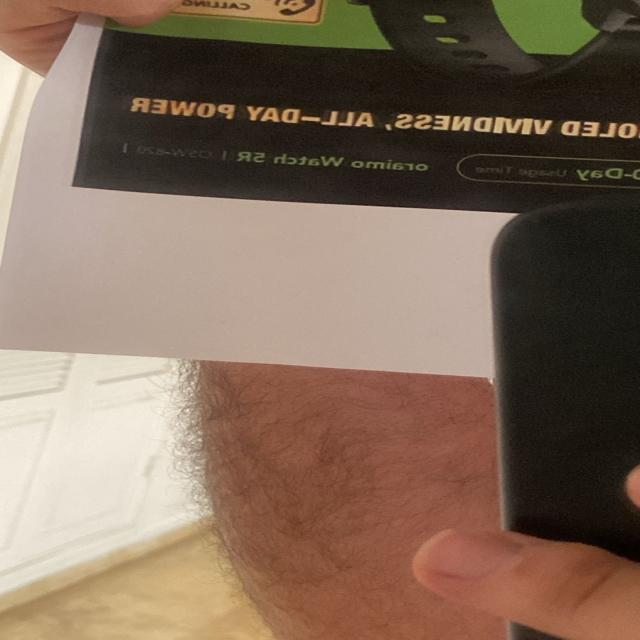Oraimo Watch 5R OSW-820: (121, 130, 434, 182)
